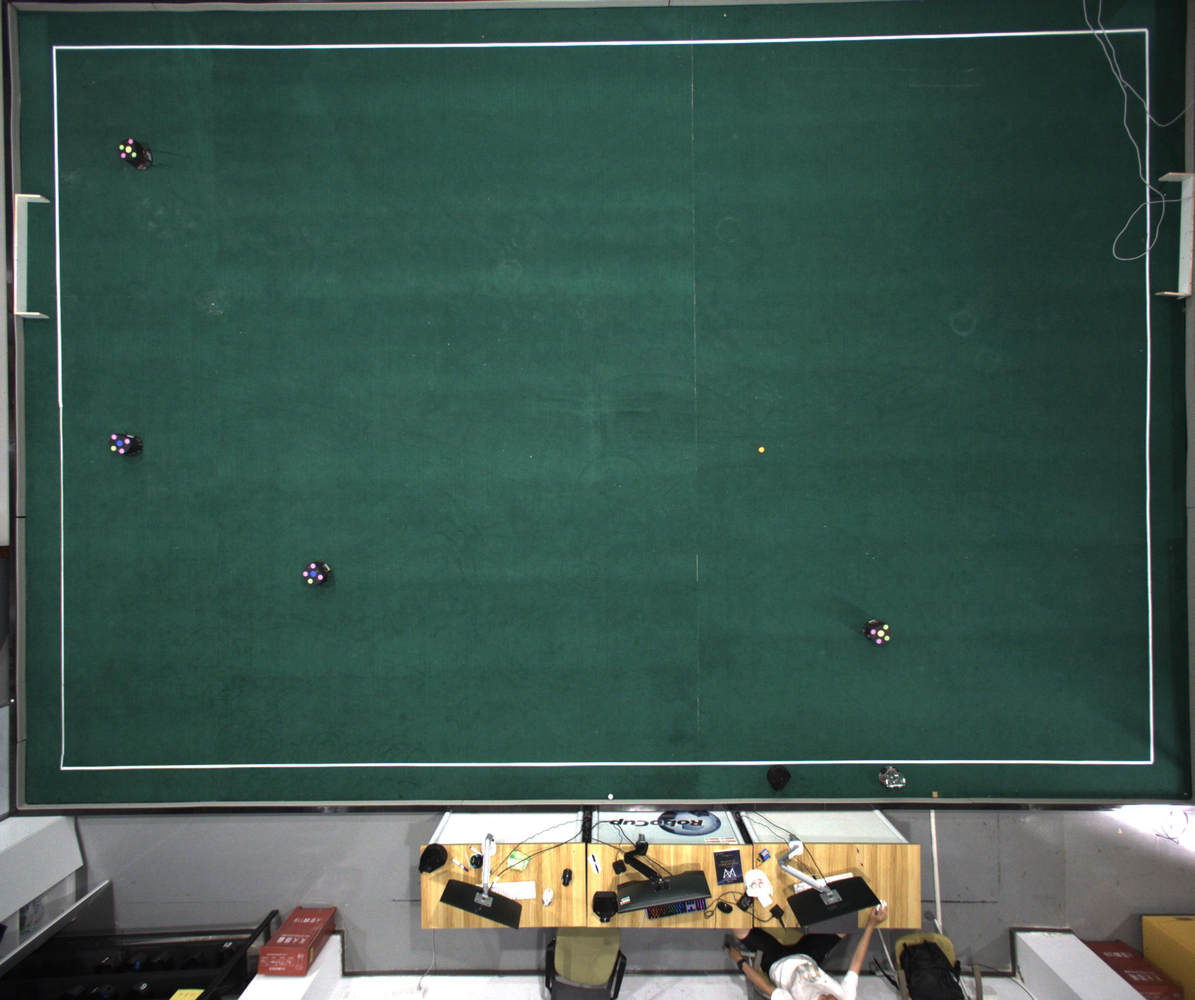ball: (758, 447, 765, 453)
blue_bot: (302, 563, 324, 587), (109, 433, 132, 455)
yellow_bot: (870, 623, 892, 645), (119, 138, 138, 160)
